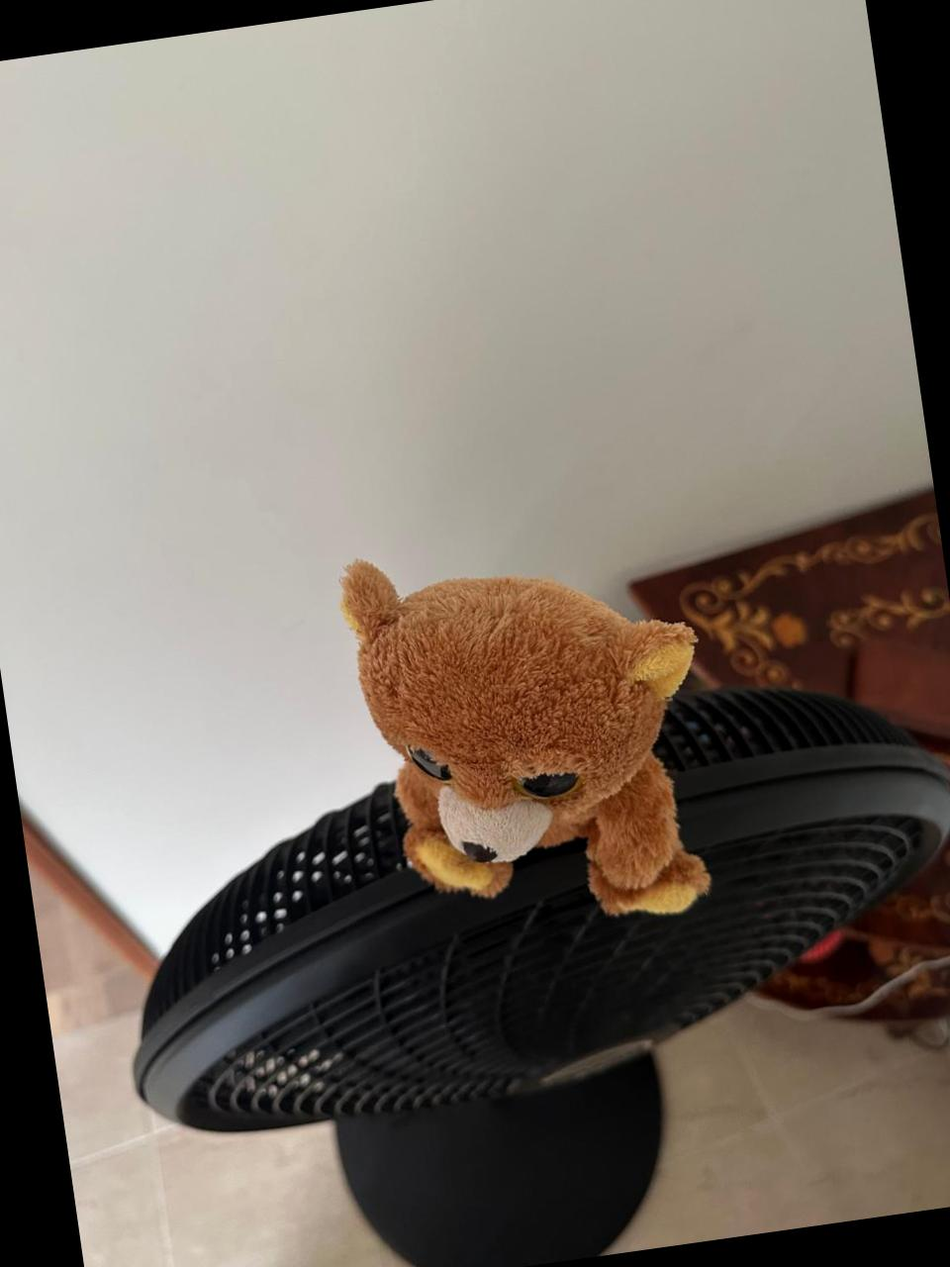peluche_sebastian: (335, 515, 734, 958)
